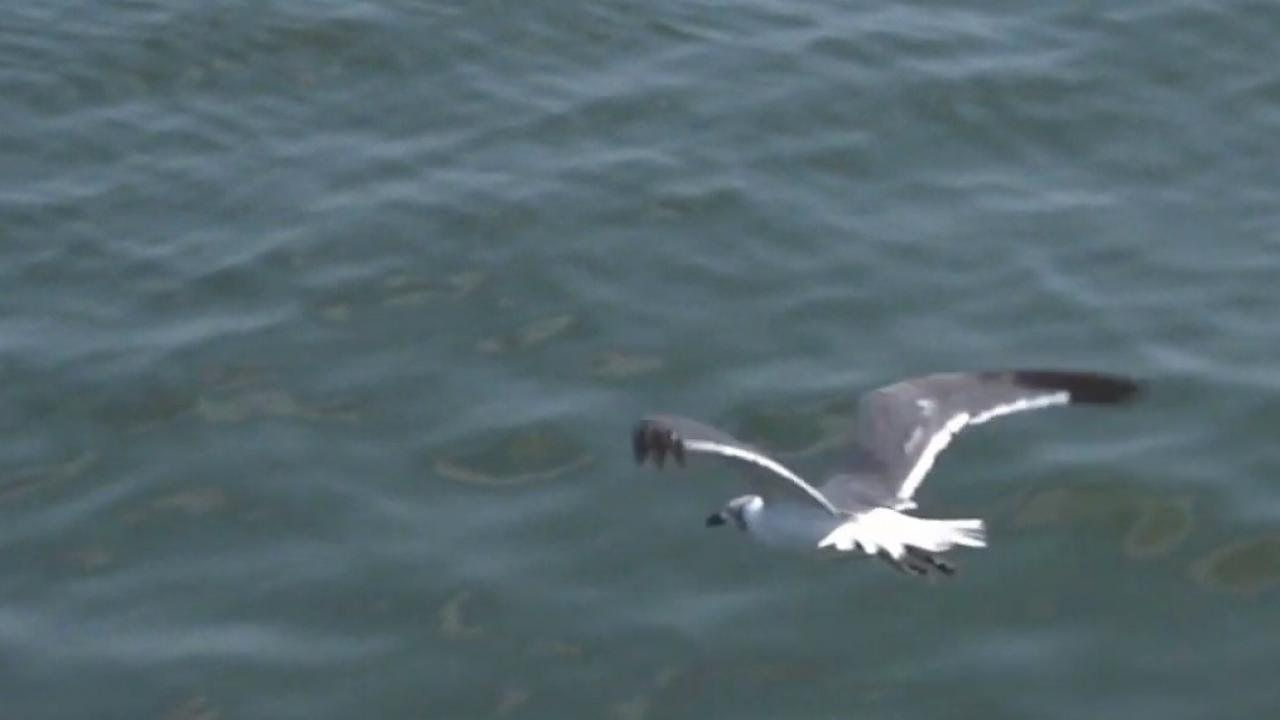Bird: (616, 345, 1162, 596)
